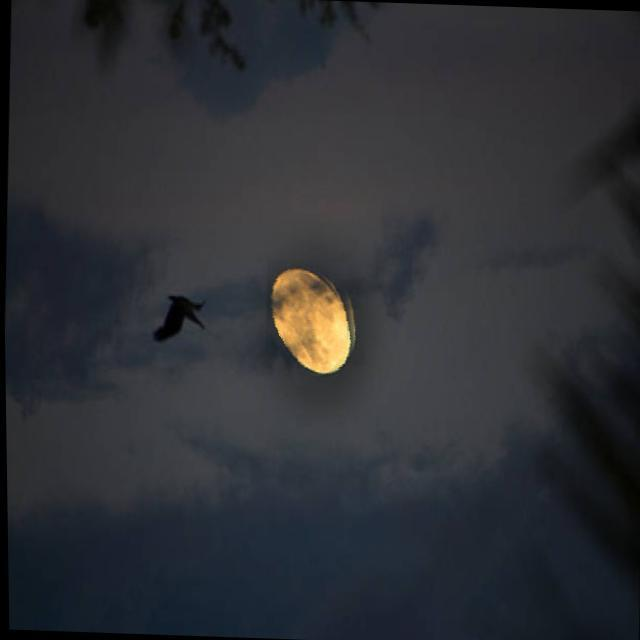moon: (262, 258, 361, 383)
